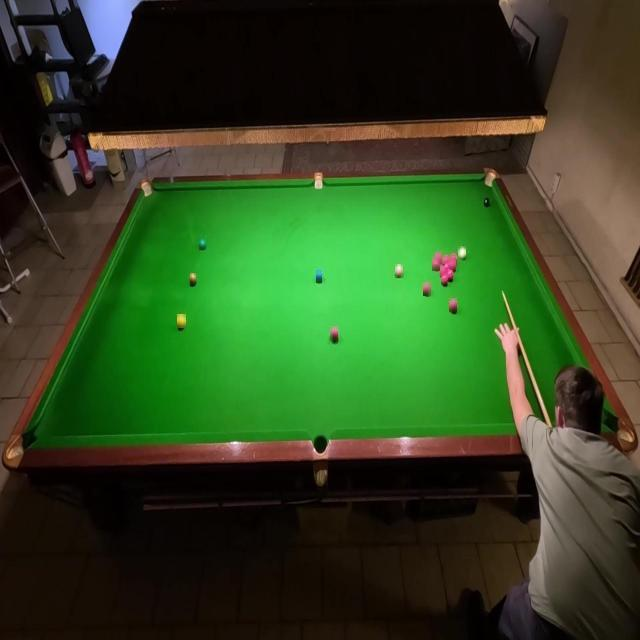Ball: (177, 314, 186, 328), (458, 246, 466, 260), (449, 298, 457, 312), (424, 282, 432, 296), (395, 264, 403, 278), (331, 326, 338, 341), (432, 258, 440, 271), (446, 269, 454, 282), (434, 252, 442, 264), (441, 274, 448, 286), (199, 238, 206, 250), (316, 270, 322, 283), (450, 258, 456, 270), (484, 196, 490, 208), (190, 274, 196, 286), (440, 266, 447, 276), (443, 256, 450, 264), (446, 262, 452, 270), (451, 253, 456, 258)
